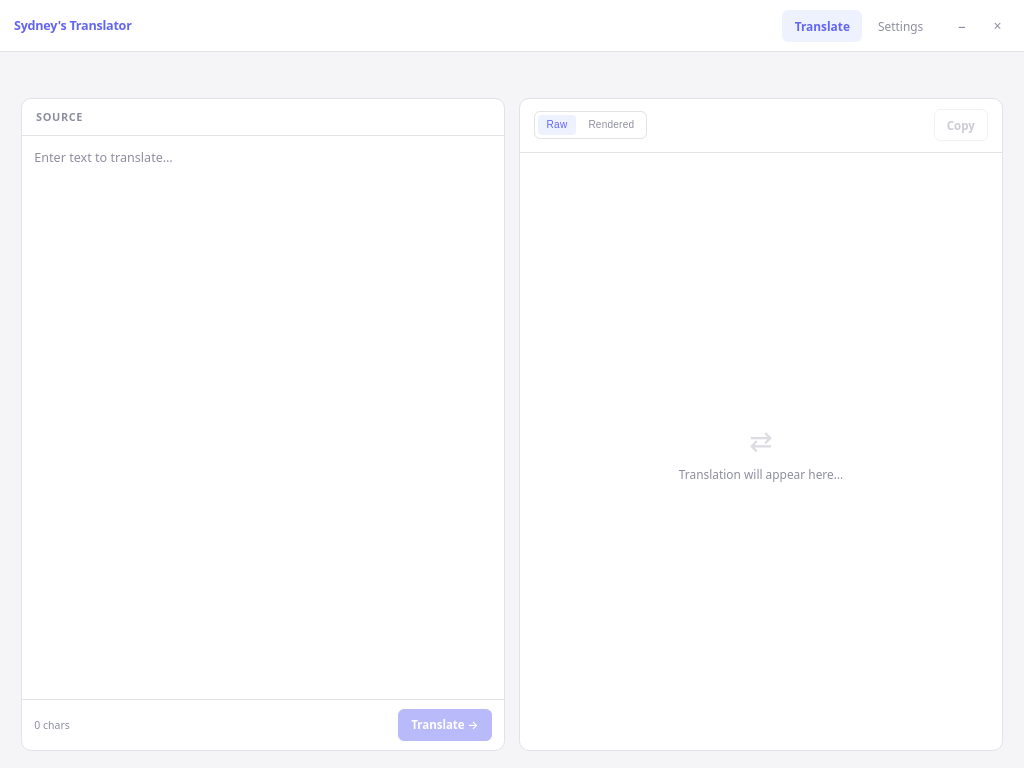
Test: renders streamed output after translating with valid settings
The image size is (1024, 768).
In the text box named "Source text": (263, 417) [34, 148, 492, 687], type "hello"
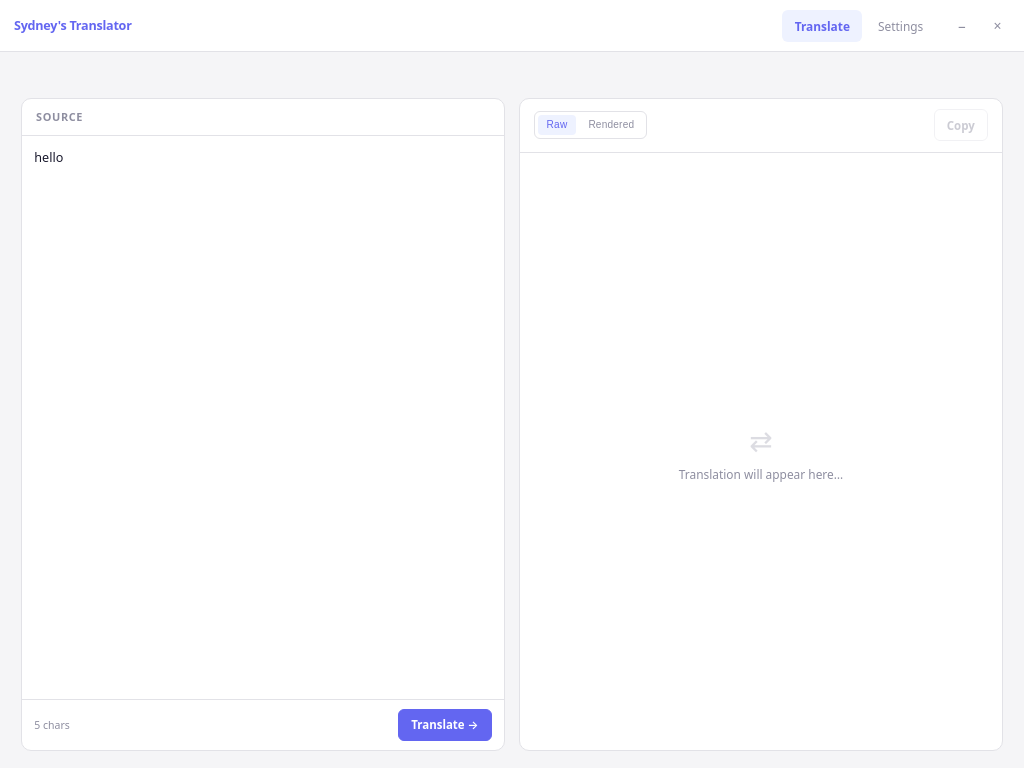
Click the button "Translate →": click(445, 725) [398, 709, 492, 741]
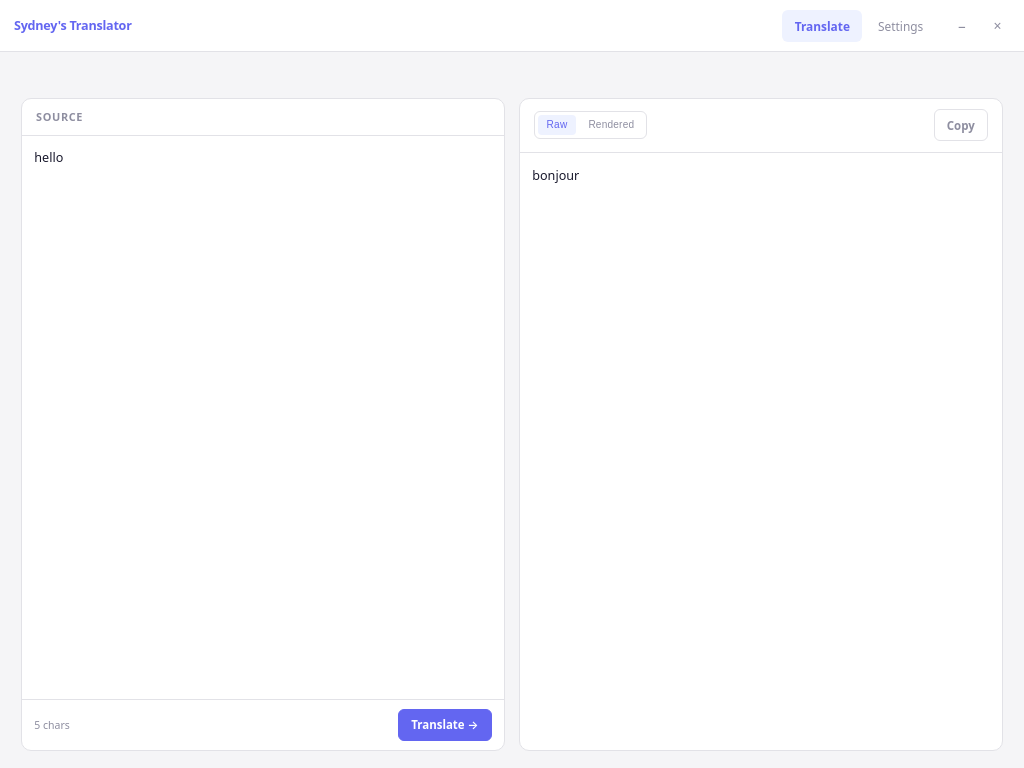
Now the text "bonjour" is shown, box [532, 167, 579, 184]
